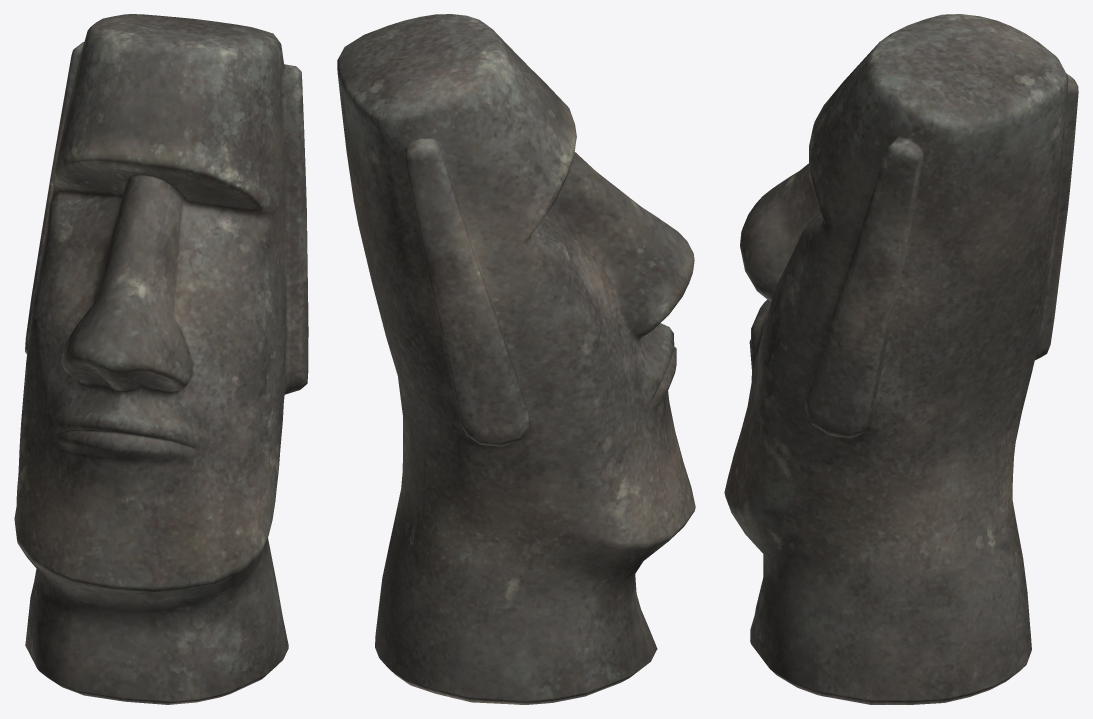
The model's file is ruins-moai.glb.
3 views of the same model, side by side, from view 1: azimuth 30°, elevation 25°; view 2: azimuth 150°, elevation 25°; view 3: azimuth 270°, elevation 25° (orthographic). The views are drawn at different scales.
Parts seen in each view (by area): view 1: Scene; view 2: Scene; view 3: Scene.
Part boxes in pixels (x1,y1,x2,y2): Scene: [14, 14, 308, 704]; Scene: [337, 14, 695, 704]; Scene: [724, 14, 1078, 704].
Size of the model in its own units: 12.88 by 25.45 by 12.88.
Materials: 1 (1 with a texture image).
